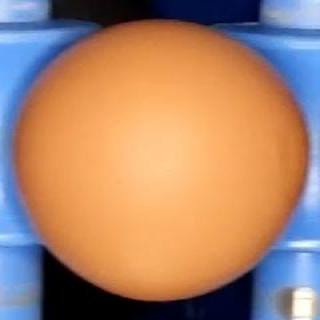Telur: (14, 19, 312, 302)
